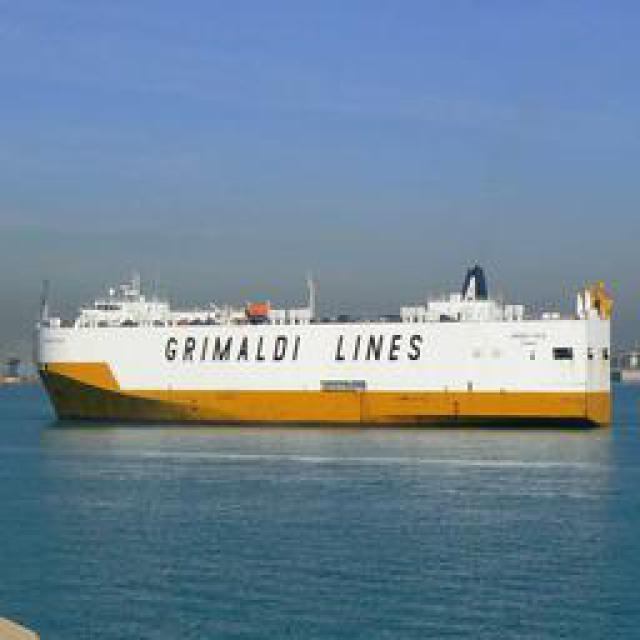Ship: (31, 251, 621, 426)
